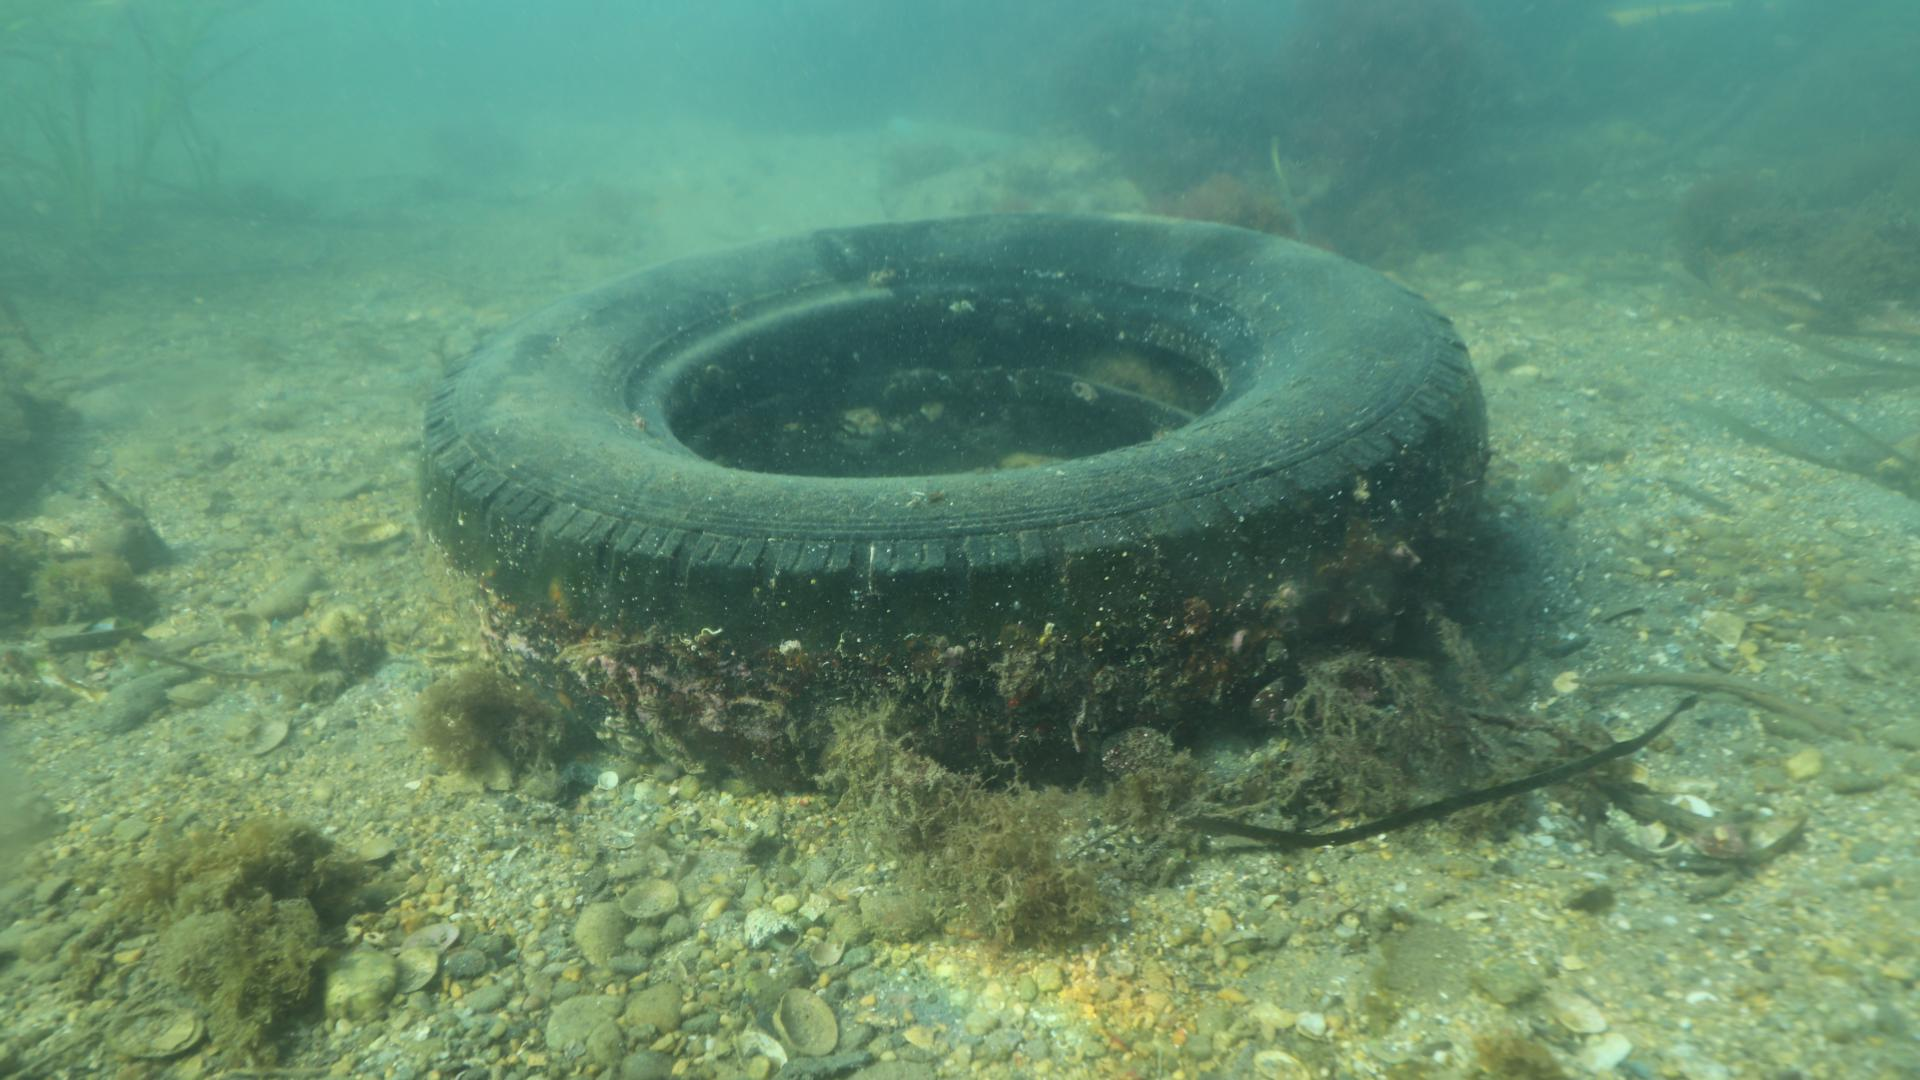tire: (419, 210, 1491, 774)
